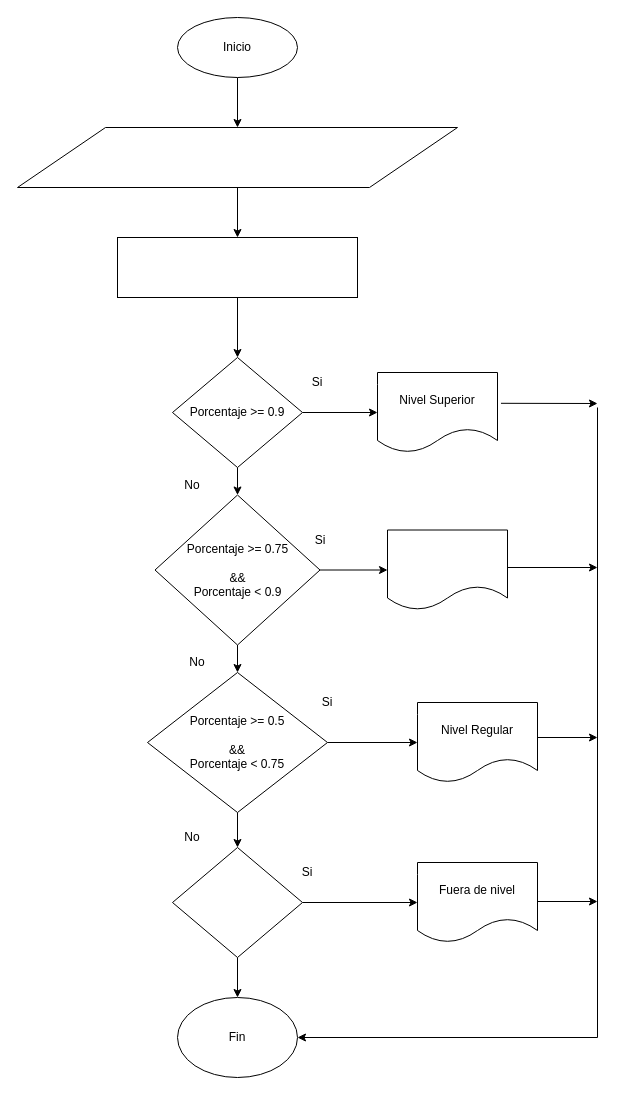
Image size: 623x1095. Some labels were removed from this diagram. The centre of each missing label's shape, as x and y in pixels:
"Nivel Medio" belongs at [447,569].
"nombre, cantRespuestasCor, cantPreguntas" belongs at [237,157].
"Porcentaje < 0.5" belongs at [237,902].
"Porcentaje = cantRespuestasCor / cantPreguntas" belongs at [237,267].
